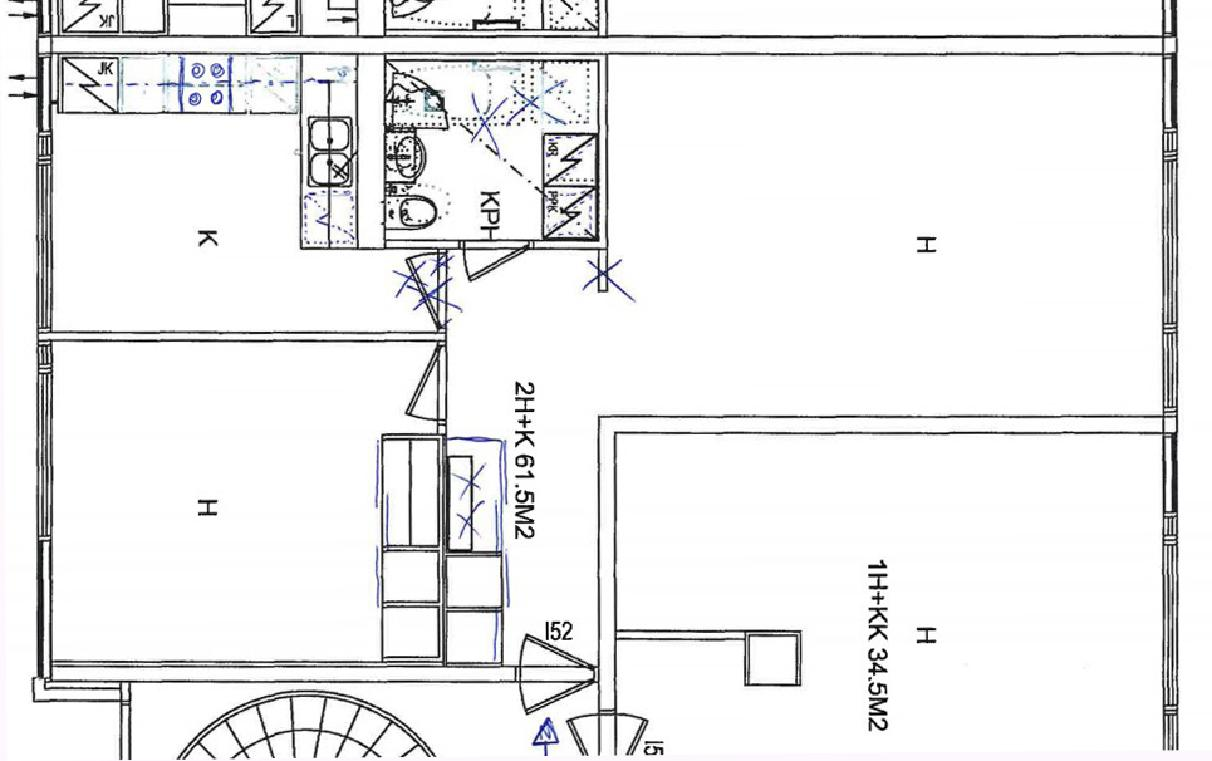door: (514, 633, 598, 713), (400, 346, 460, 428), (397, 257, 456, 325), (566, 714, 647, 761), (457, 238, 539, 284)
window: (1163, 514, 1178, 748), (37, 132, 54, 330), (38, 343, 55, 535), (1166, 130, 1176, 407)
zone: (439, 57, 1164, 664), (616, 430, 1163, 751), (57, 347, 443, 657), (51, 55, 439, 328), (383, 55, 597, 236)
